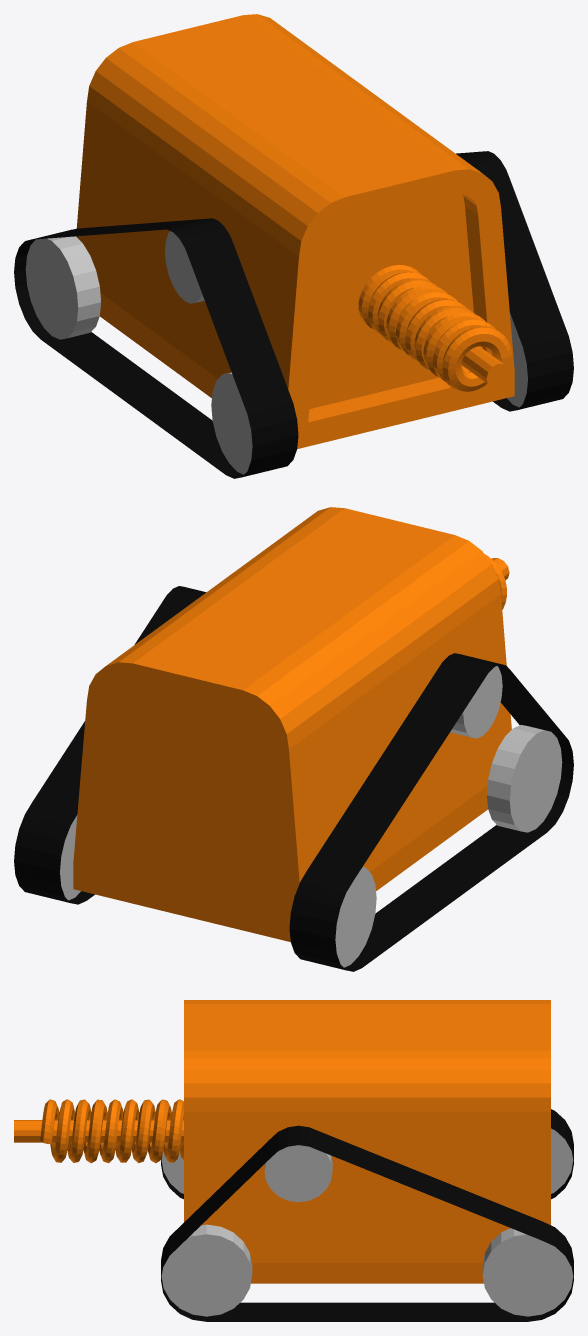
Rendered from shooting_enemy.fbx.
3 renders of one model, top to bottom at view 1: azimuth 30°, elevation 25°; view 2: azimuth 150°, elevation 25°; view 3: azimuth 270°, elevation 25°, orthographic. The views are drawn at different scales.
Parts seen in each view (by area): view 1: Body, Treads_R, Treads_L; view 2: Body, Treads_R, Treads_L; view 3: Body, Treads_L, Treads_R.
Part boxes in pixels (<box>): Body: <box>25,14,527,474</box>; Treads_R: <box>14,218,298,478</box>; Treads_L: <box>456,151,573,411</box>; Body: <box>60,507,562,967</box>; Treads_R: <box>289,653,573,971</box>; Treads_L: <box>14,586,205,904</box>; Body: <box>14,1000,573,1316</box>; Treads_L: <box>161,1125,573,1321</box>; Treads_R: <box>161,1109,573,1199</box>.
Bounding box in the file's own units: 1.4 × 1.09 × 2.44.
